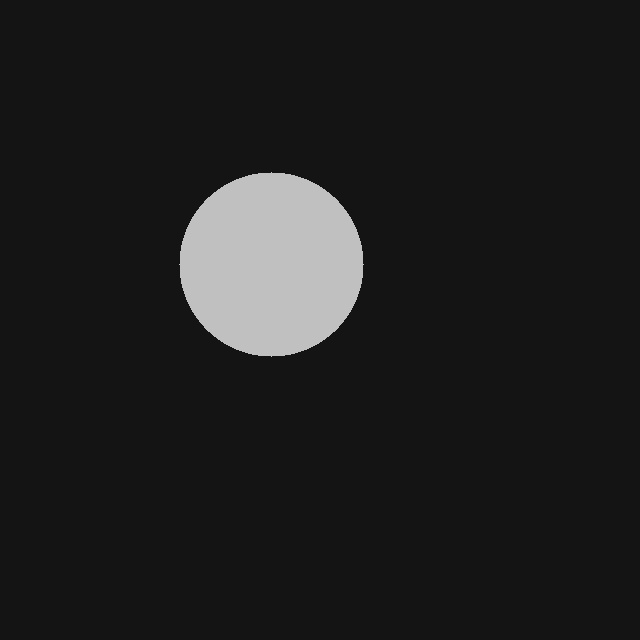circle: (179, 172, 363, 356)
